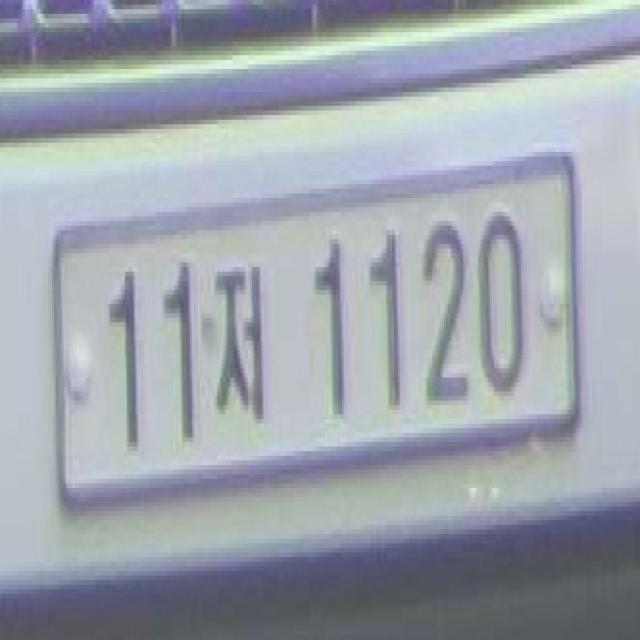plat: (50, 149, 580, 502)
